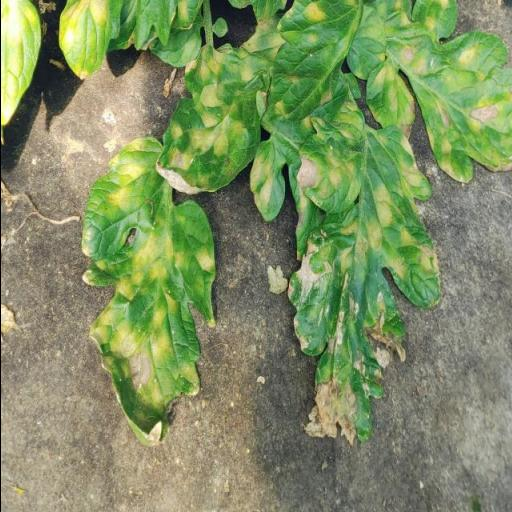disease_tomato: (288, 123, 443, 446), (75, 135, 219, 449), (346, 0, 512, 184), (151, 40, 262, 196)
